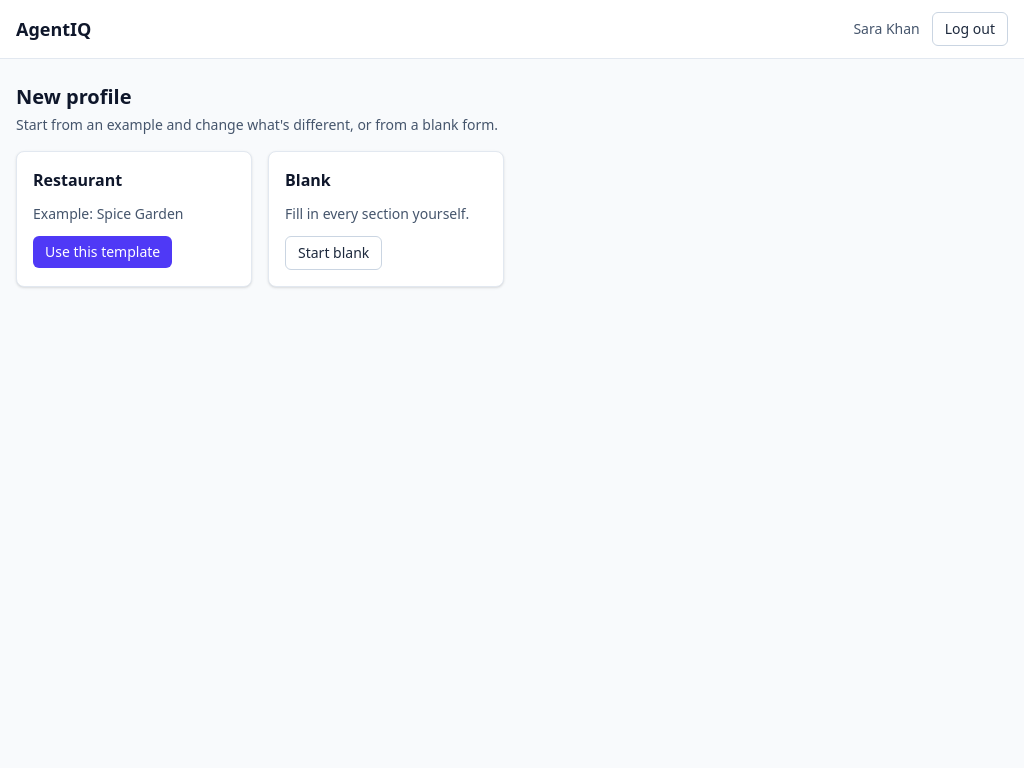
creating a business profile (TC-08) › step 1: creates a profile from a template and opens it
Click the button "Use this template" at (103, 252), box [33, 236, 172, 268]
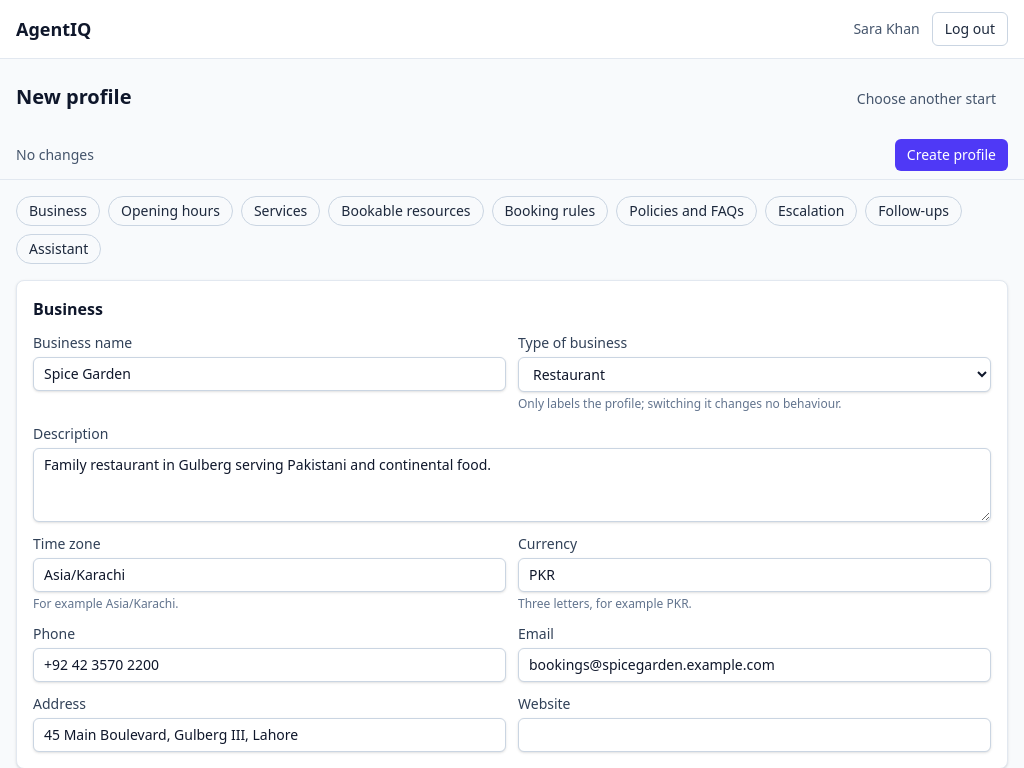
Result: the field labelled "Business name" holds "Spice Garden"
Replace the text in the field labelled "Business name" with "Spice Garden Gulberg" at (270, 374), box [33, 357, 506, 391]
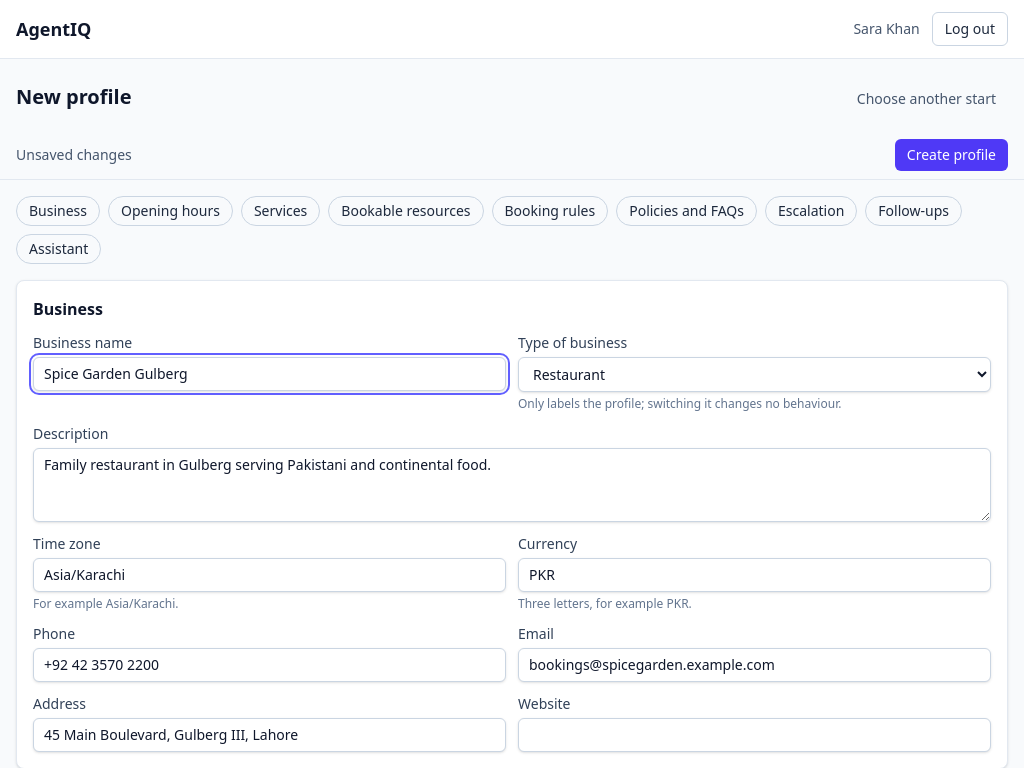
Click the button "Create profile" at (951, 155), box [895, 139, 1008, 171]
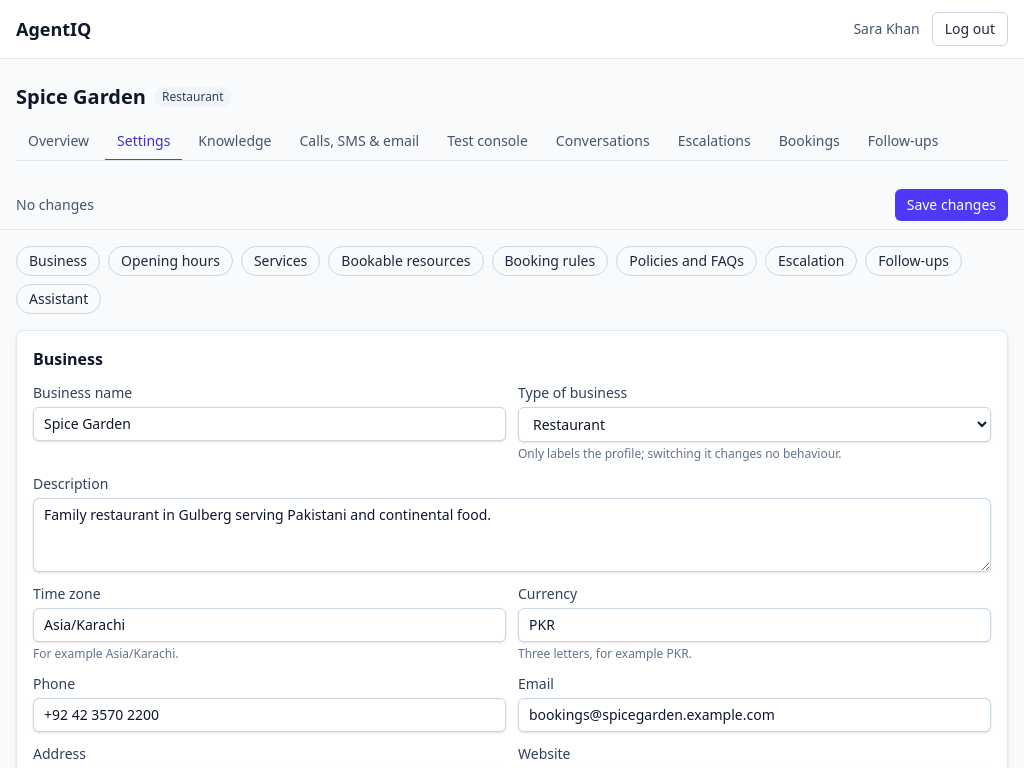
Result: the heading "Spice Garden" is shown at [16, 83, 146, 111]
